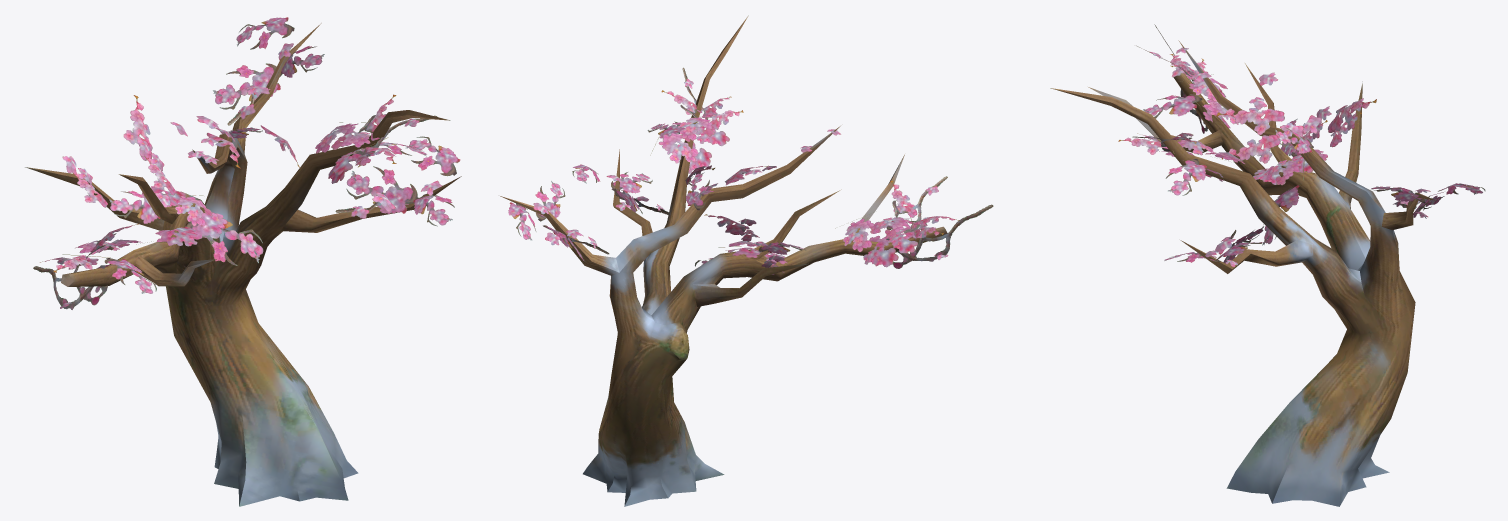
Rendered from map_114_shu_3.fbx.
3 renders of one model, left to right at view 1: azimuth 30°, elevation 25°; view 2: azimuth 150°, elevation 25°; view 3: azimuth 270°, elevation 25°, orthographic. The views are drawn at different scales.
Parts seen in each view (by area): view 1: map_114_shu_3; view 2: map_114_shu_3; view 3: map_114_shu_3.
Part boxes in pixels (x1=…): map_114_shu_3: x1=25, y1=17, x2=461, y2=506; map_114_shu_3: x1=500, y1=15, x2=993, y2=506; map_114_shu_3: x1=1050, y1=24, x2=1485, y2=506.
Size of the model in its own units: 3.71 by 3.22 by 3.24.
